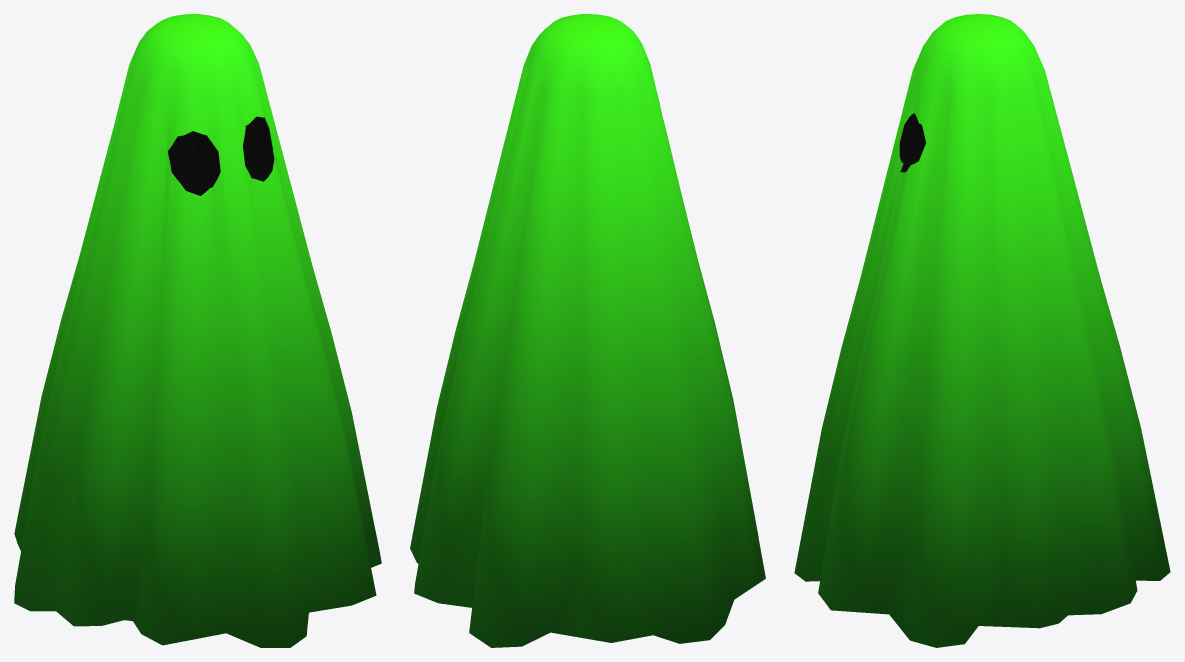
Rendered from Ghost.glb.
3 renders of one model, left to right at view 1: azimuth 30°, elevation 25°; view 2: azimuth 150°, elevation 25°; view 3: azimuth 270°, elevation 25°, orthographic.
Parts seen in each view (by area): view 1: Ghost; view 2: Ghost; view 3: Ghost.
Part boxes in pixels (x1,y1,x2,y2): Ghost: (14,14,381,647); Ghost: (410,14,765,647); Ghost: (794,14,1170,647).
Size of what is drawn, in the model's own units: 1.19 by 2.03 by 1.24.
1 material, 1 textured.
